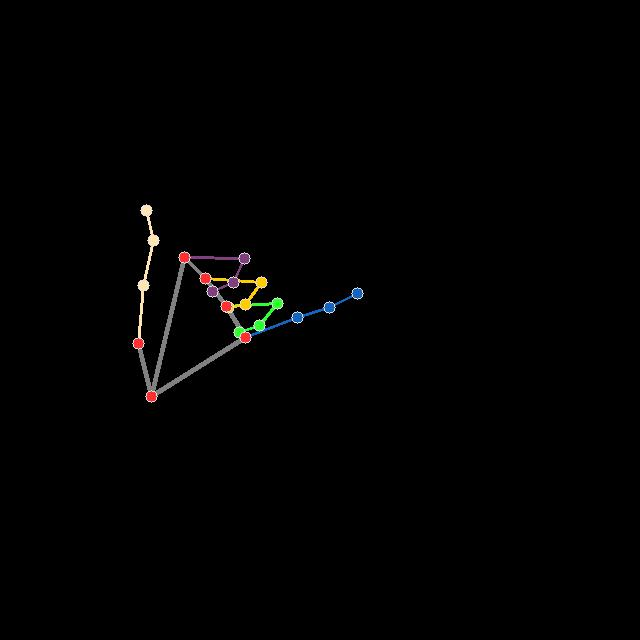skr: (130, 202, 365, 404)
